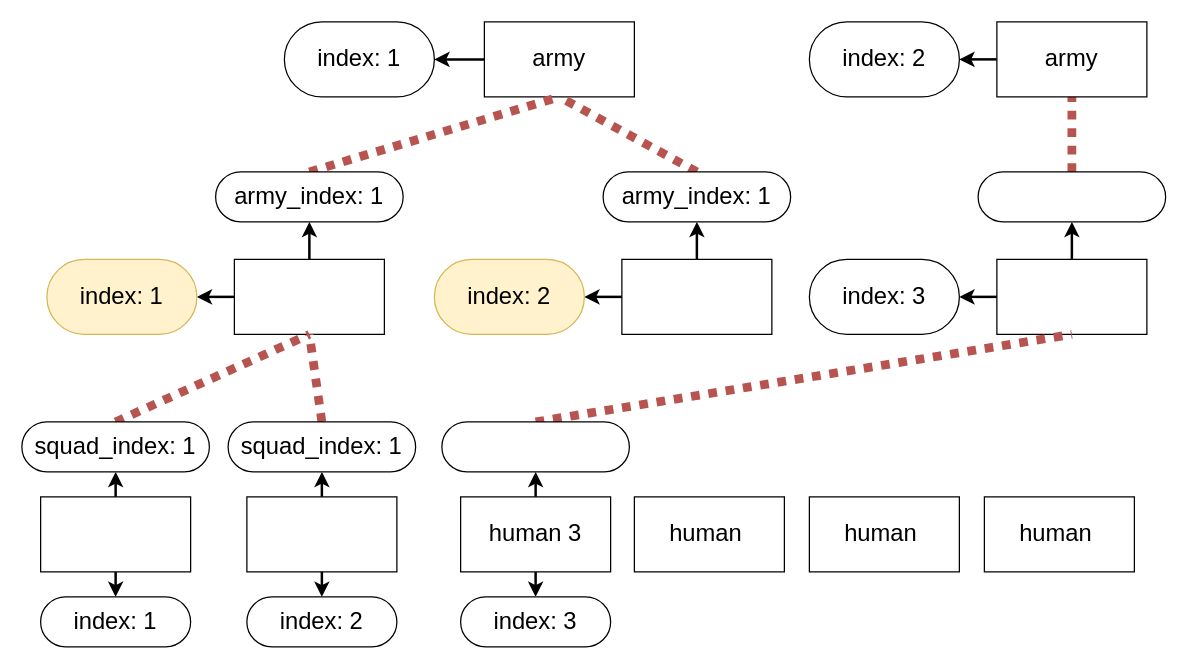
Some shapes in this 1188 by 669 pixel diagram are drawn without their labels. Here are the shapes that lost their labels. From the top down, the box of each, then its label:
(977, 171, 1166, 222): army_index: 2
(233, 258, 384, 334): h. squad 1
(621, 258, 772, 334): h. squad 2
(996, 258, 1147, 334): h. squad 3
(441, 421, 629, 472): squad_index: 3
(39, 496, 191, 572): human 1
(246, 496, 397, 572): human 2
